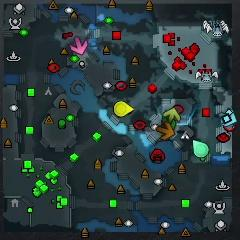p2: (193, 140, 209, 158)
p4: (114, 100, 135, 117)
x1: (70, 37, 87, 54)
x2: (163, 107, 180, 124)
x3: (218, 109, 237, 128)
x4: (162, 116, 176, 130)
x5: (156, 122, 175, 140)
